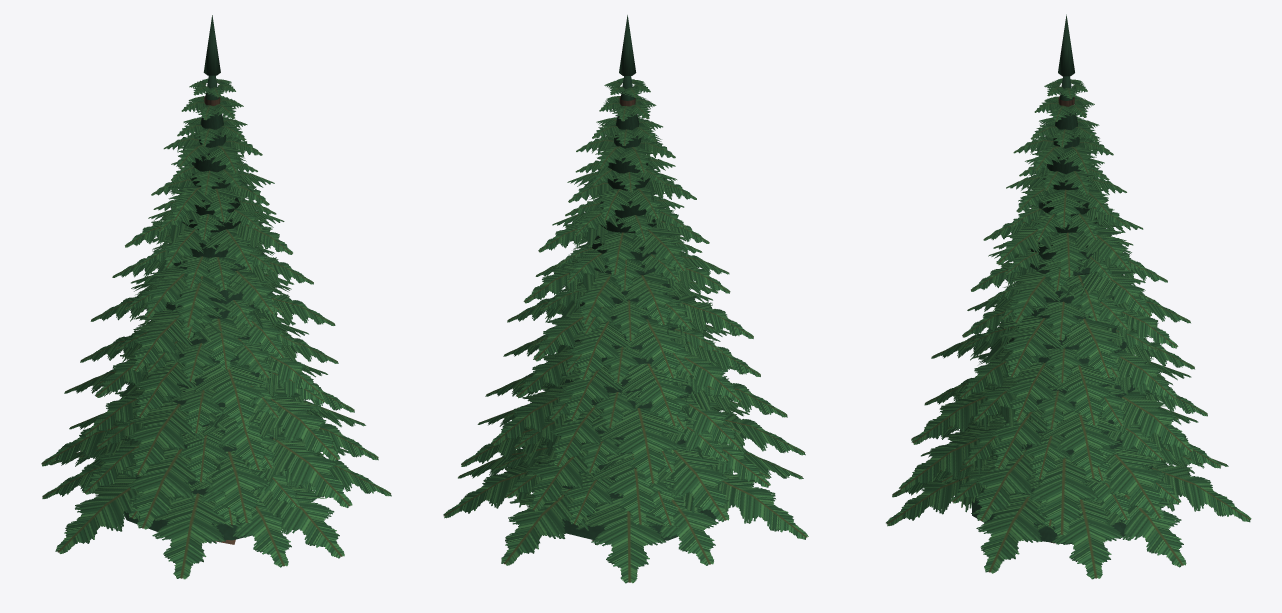
The model's file is tree_spruce.glb.
The picture shows the model from 3 angles, left to right: view 1: azimuth 30°, elevation 25°; view 2: azimuth 150°, elevation 25°; view 3: azimuth 270°, elevation 25°; orthographic projection.
Parts seen in each view (by area): view 1: model; view 2: model; view 3: model.
Part boxes in pixels (box(x1,y1,x2,y2)): model: box(41, 15, 391, 579); model: box(443, 15, 808, 583); model: box(886, 14, 1251, 579).
Bounding box in the file's own units: 5.54 × 7.9 × 5.55.
3 materials, 3 textured.
